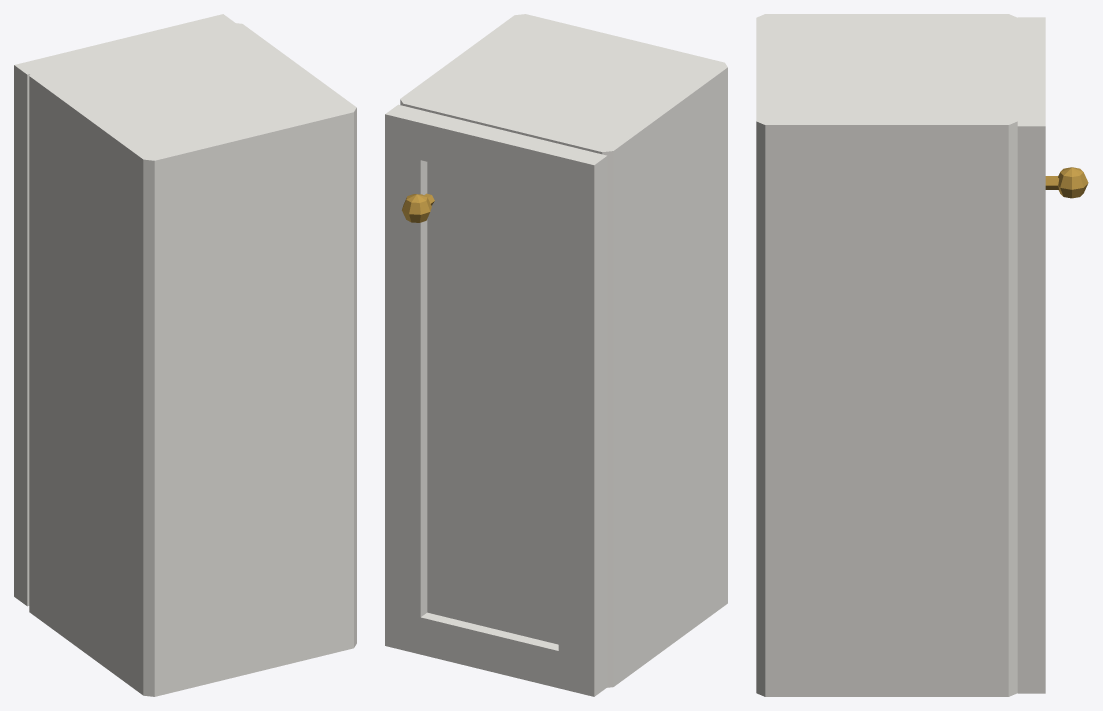
The model's file is SM_LPI_Kitchen_Wall_01.fbx.
3 views of the same model, side by side, from view 1: azimuth 30°, elevation 25°; view 2: azimuth 150°, elevation 25°; view 3: azimuth 270°, elevation 25° (orthographic). The views are drawn at different scales.
Parts seen in each view (by area): view 1: SM_LPI_Kitchen_Wall_01; view 2: SM_LPI_Kitchen_Wall_01; view 3: SM_LPI_Kitchen_Wall_01.
Part boxes in pixels (<box>): SM_LPI_Kitchen_Wall_01: <box>14,14,356,696</box>; SM_LPI_Kitchen_Wall_01: <box>385,14,727,696</box>; SM_LPI_Kitchen_Wall_01: <box>756,14,1088,696</box>.
Size of the model in its own units: 0.3 by 0.72 by 0.379.
